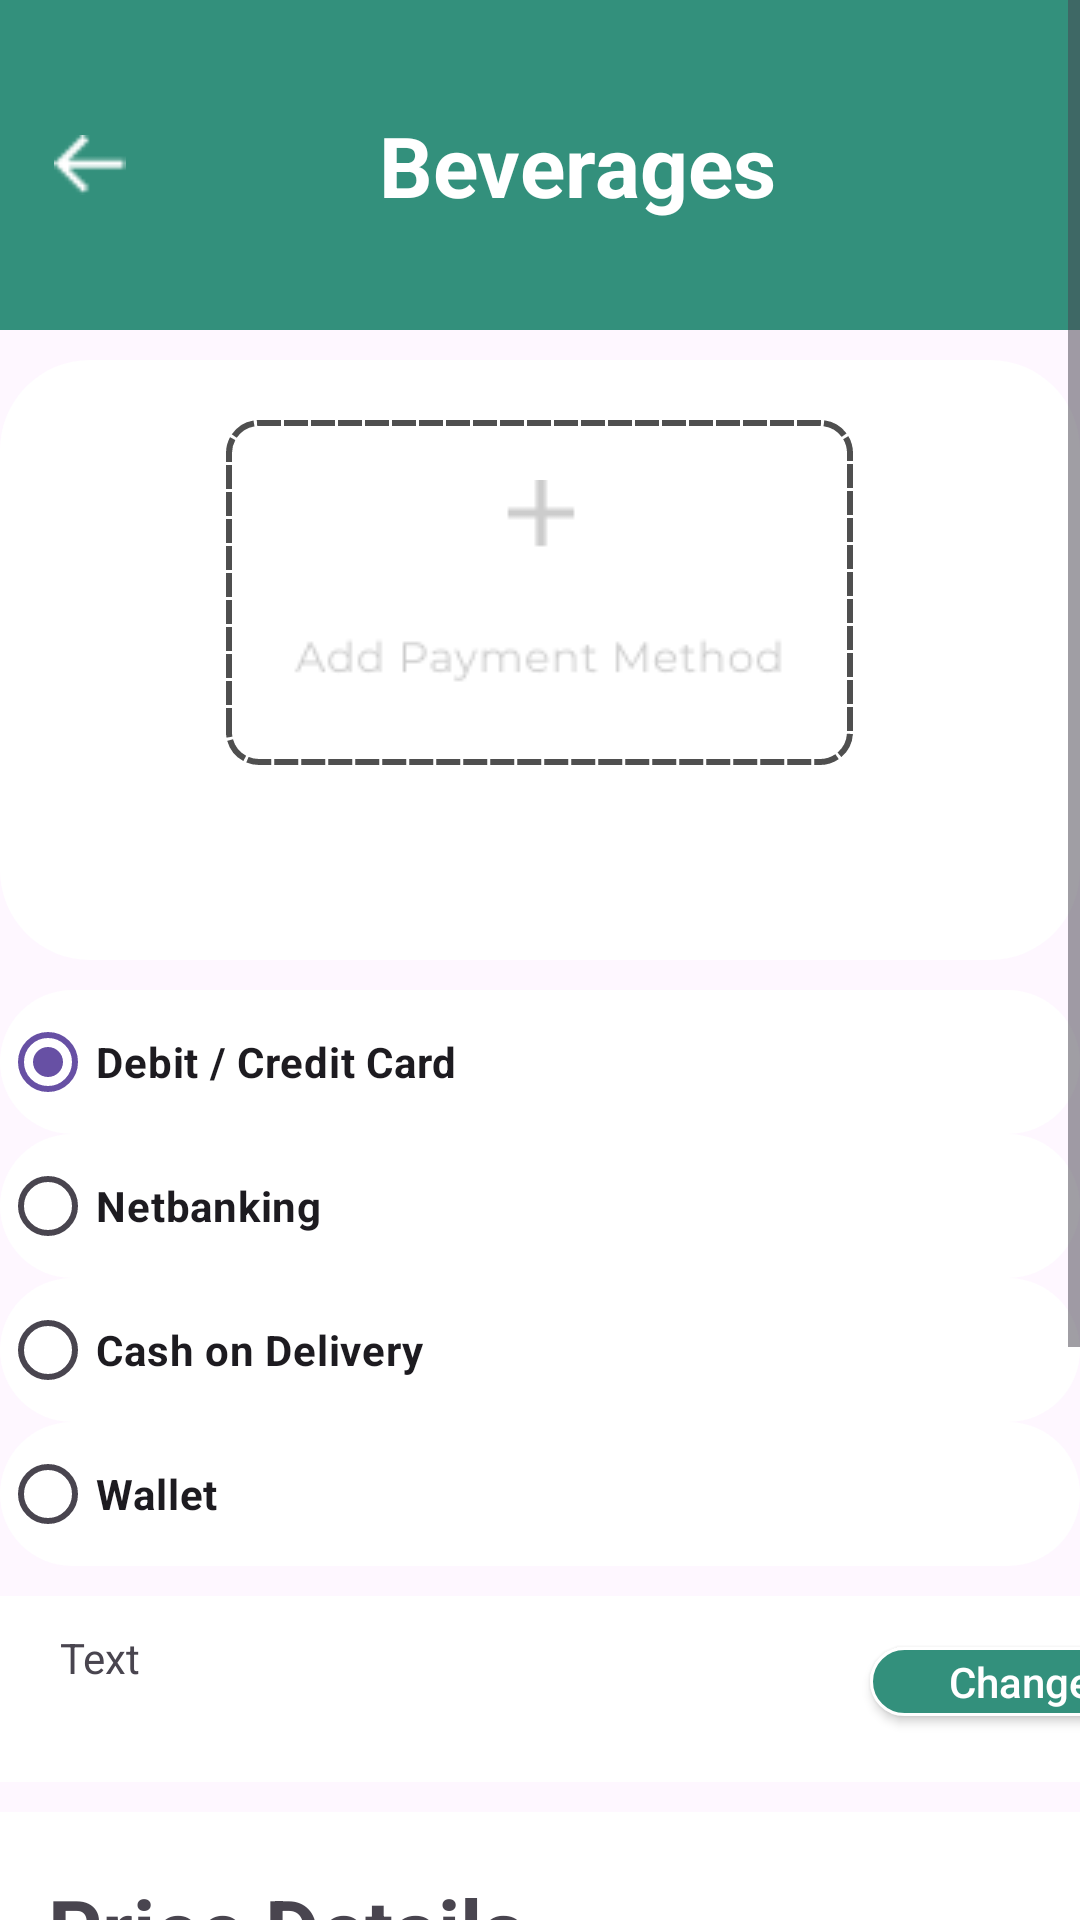

Named icons in this screenshot (1080 x 1920) and their centers, (x,y):
back: (90,164)
